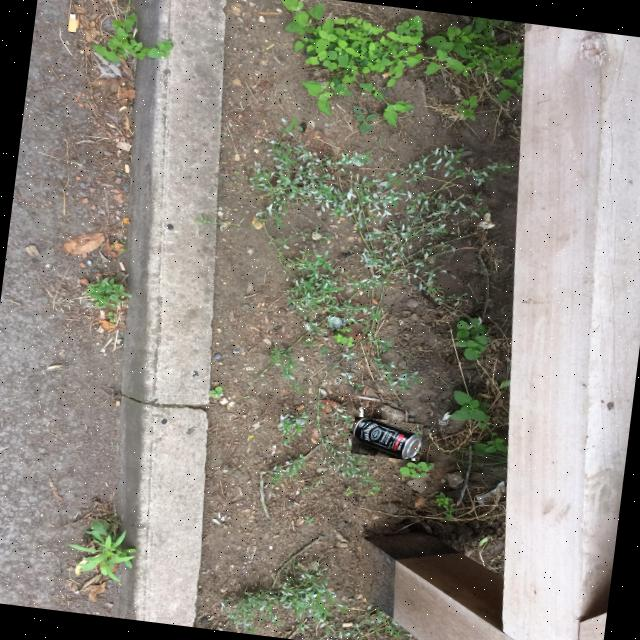Cigarette: (68, 13, 76, 31)
Drink can: (354, 418, 421, 459)
Unlabeled litter: (327, 318, 342, 328)
